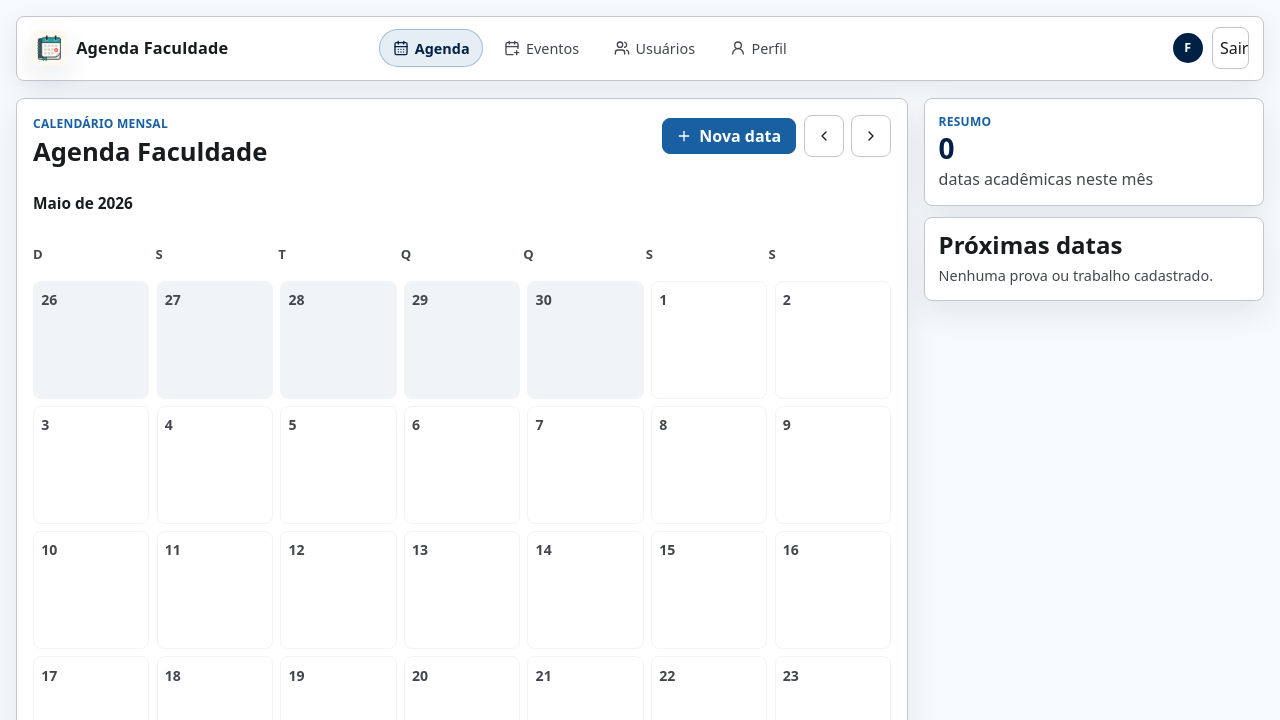
AgendaDashboard › marks active navigation and exposes the users search field
The image size is (1280, 720).
Click the button named "Usuarios" at (654, 48), box [600,29,709,67]
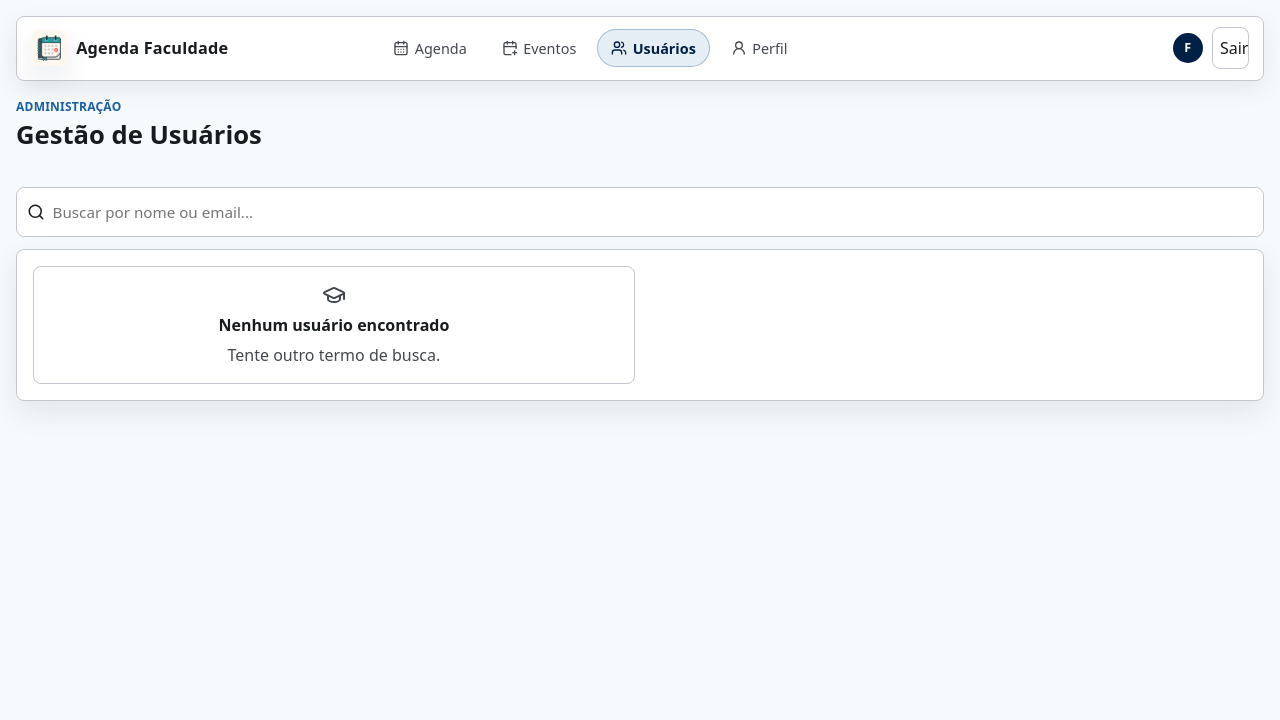
Expected: the field labelled "Buscar por nome ou email" is shown, [53,194,1253,230]
